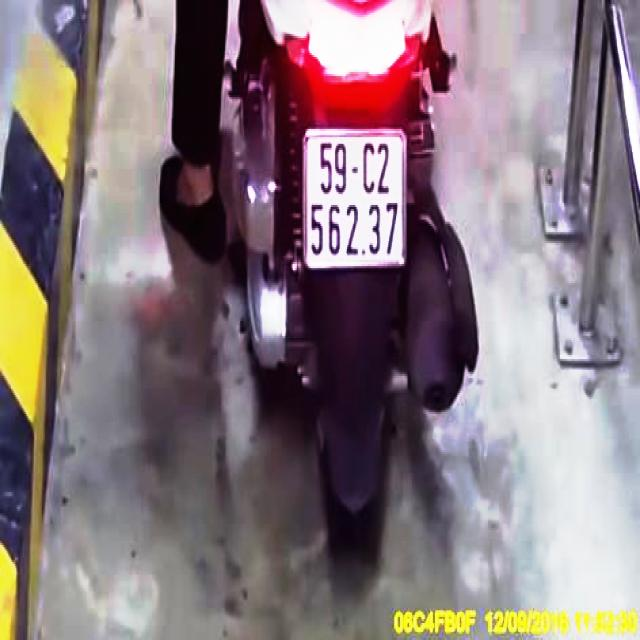license_plate: (307, 132, 405, 259)
